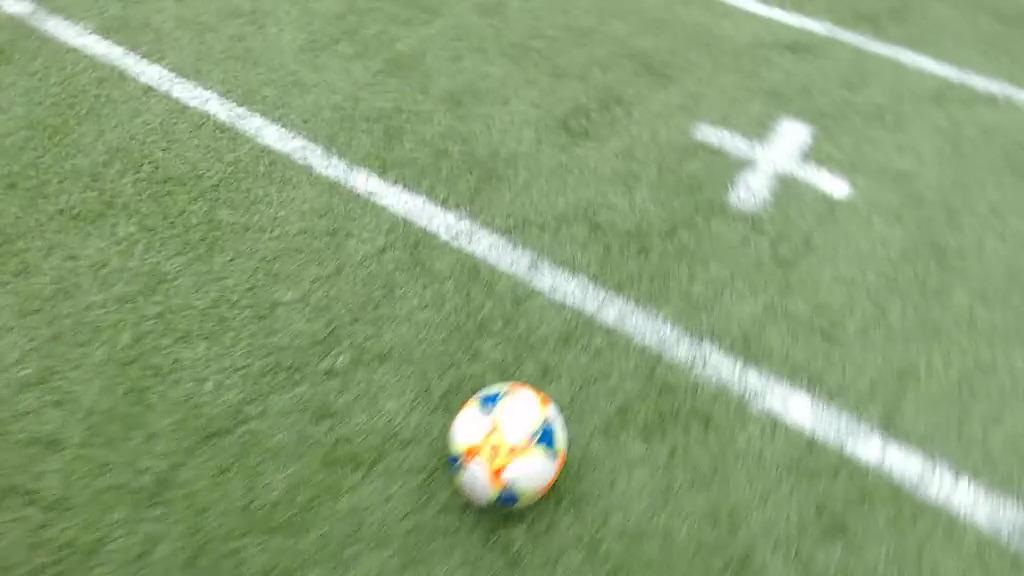ball: (449, 378, 568, 512)
